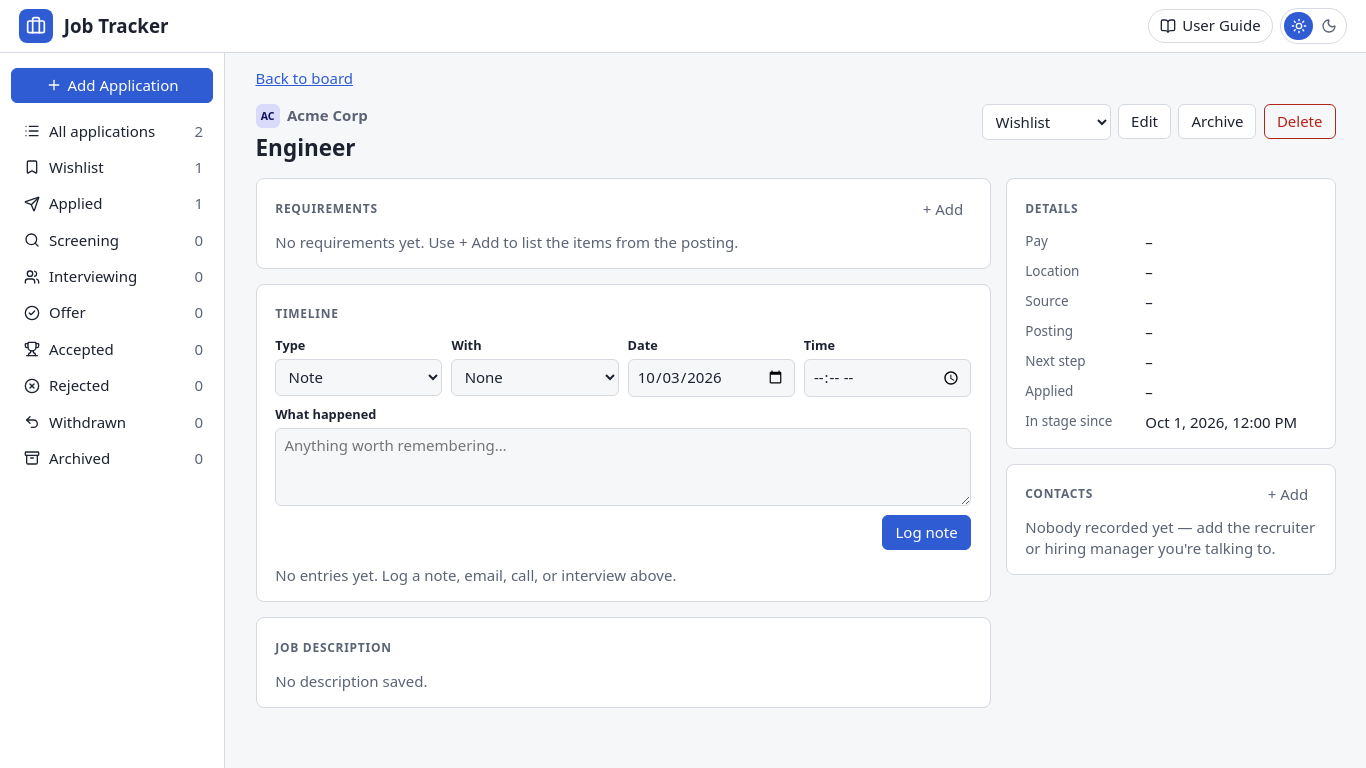
Scenario: the sidebar's counts stay live (spec 014, AC-3) › are the same on every screen I move to afterward
Select "Applied" in the dropdown named "Stage" at (1046, 122), box [982, 104, 1111, 140]
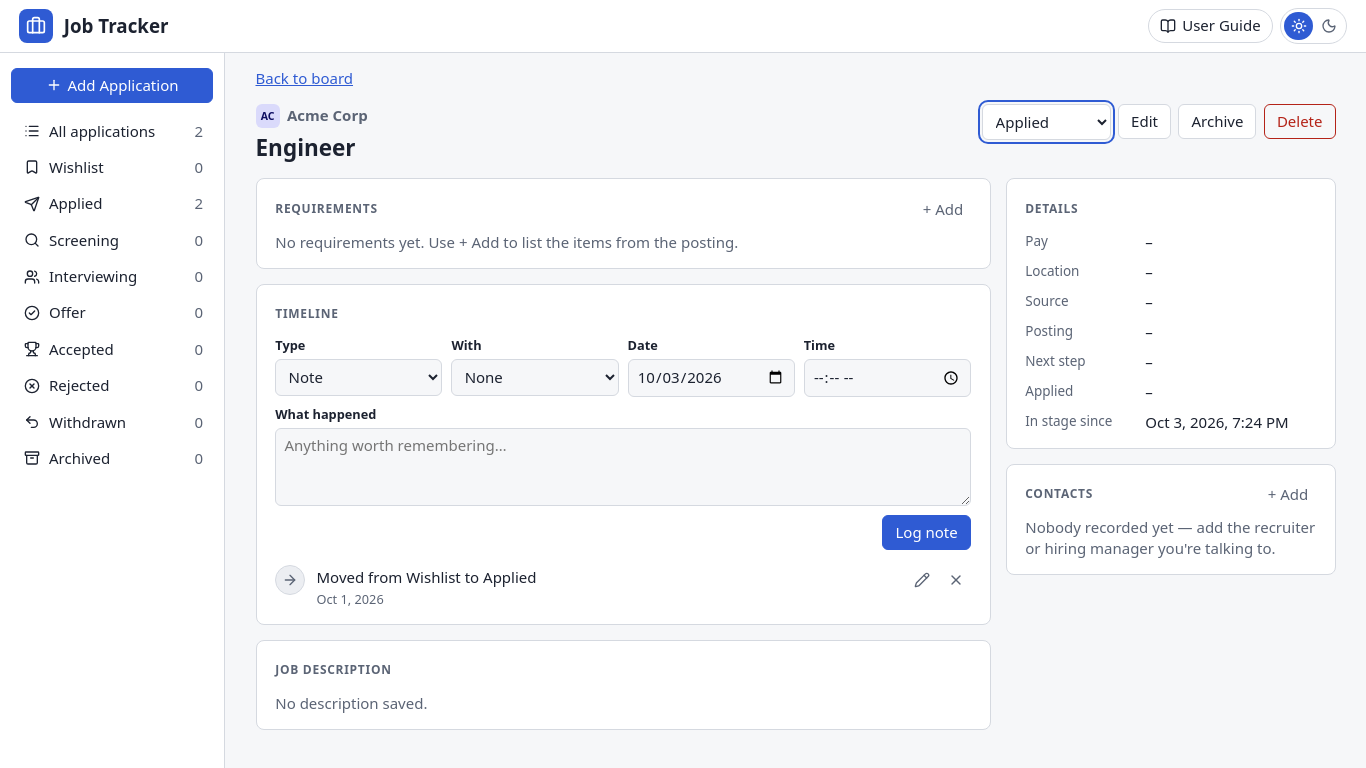
Click the link "Back to board" at (304, 78), box [256, 68, 353, 88]
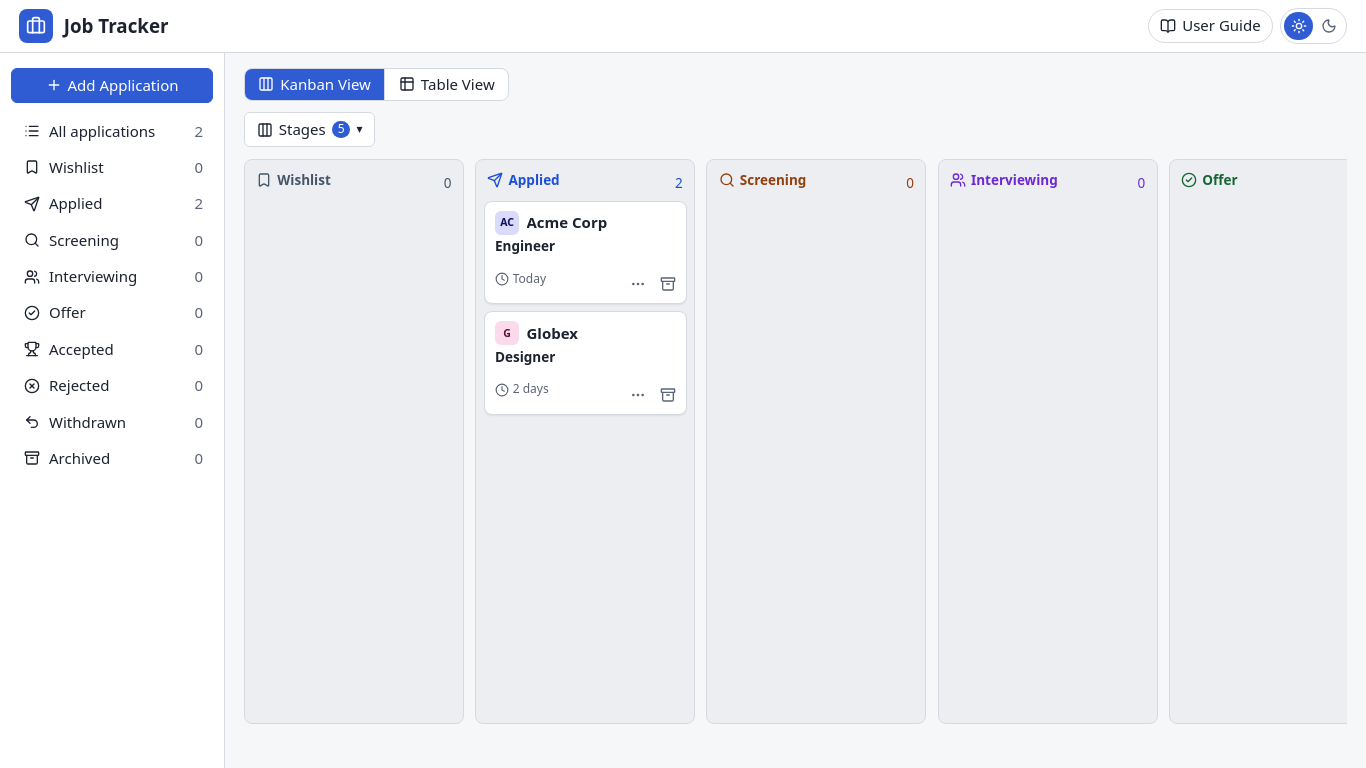
Expected: the element "Applied" is shown, [475, 158, 695, 724]
Click the link "Table View" at (446, 84), box [384, 68, 508, 100]
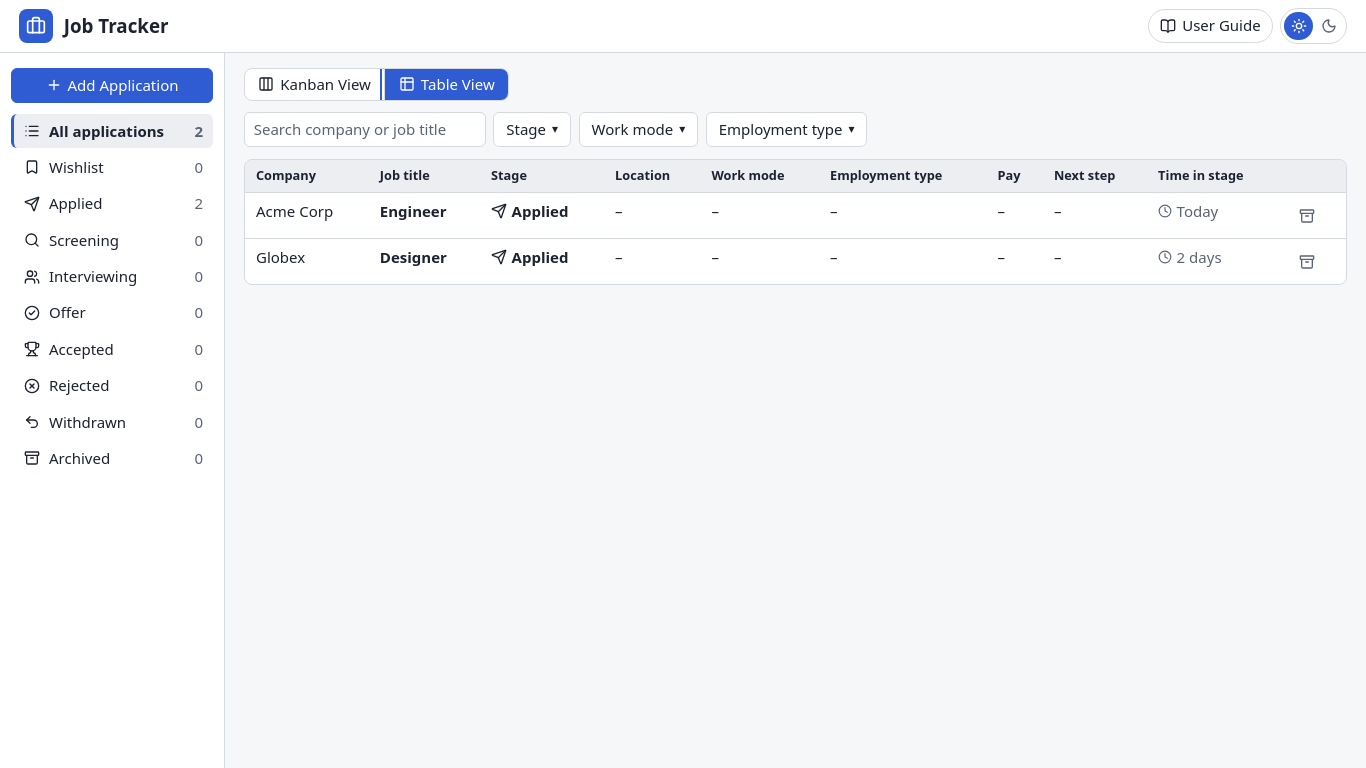
Expected: the table is shown, [245, 160, 1346, 284]
